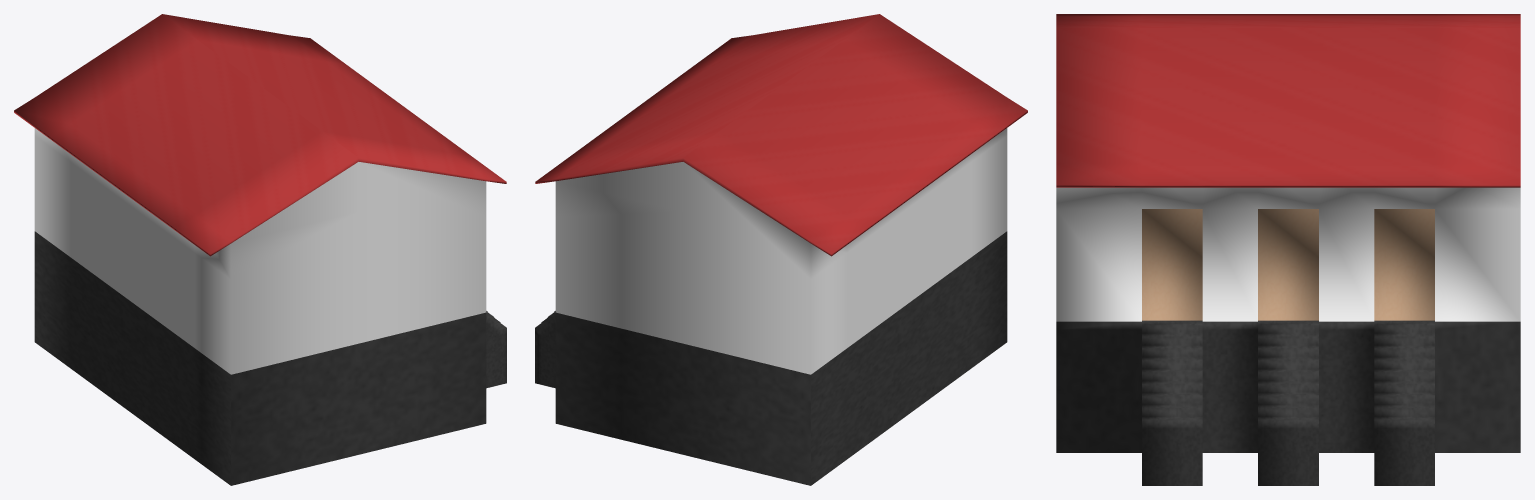
File: Placeholder_Casa_MG.fbx
3 views of the same model, side by side, from view 1: azimuth 30°, elevation 25°; view 2: azimuth 150°, elevation 25°; view 3: azimuth 270°, elevation 25° (orthographic). The views are drawn at different scales.
Parts seen in each view (by area): view 1: Casa_MG01; view 2: Casa_MG01; view 3: Casa_MG01.
Boxes of the visible parts, left/top/right/bottom form: Casa_MG01: left=14, top=14, right=506, bottom=485; Casa_MG01: left=535, top=14, right=1027, bottom=485; Casa_MG01: left=1056, top=14, right=1520, bottom=485.
Bounding box in the file's own units: 783 × 668 × 800.
